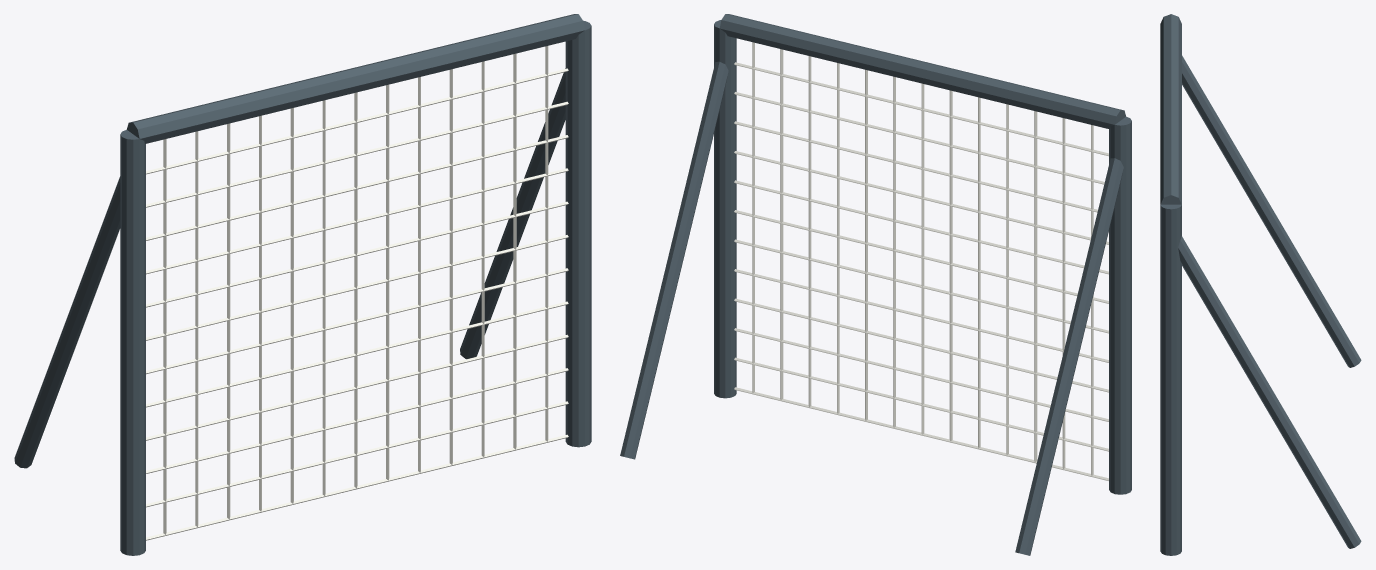
Rendered from training-rebounder-752a829f.glb.
3 renders of one model, left to right at view 1: azimuth 30°, elevation 25°; view 2: azimuth 150°, elevation 25°; view 3: azimuth 270°, elevation 25°, orthographic. The views are drawn at different scales.
Parts seen in each view (by area): view 1: training-rebounder; view 2: training-rebounder; view 3: training-rebounder.
Part boxes in pixels (x1=…): training-rebounder: x1=14, y1=14, x2=591, y2=555; training-rebounder: x1=620, y1=14, x2=1131, y2=555; training-rebounder: x1=1160, y1=14, x2=1361, y2=555.
Bounding box in the file's own units: 1.47 × 1.28 × 0.657.
